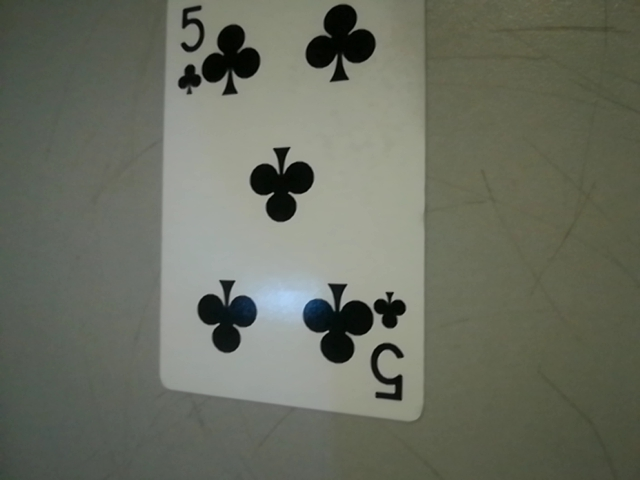mh 5: (372, 284, 422, 412)
